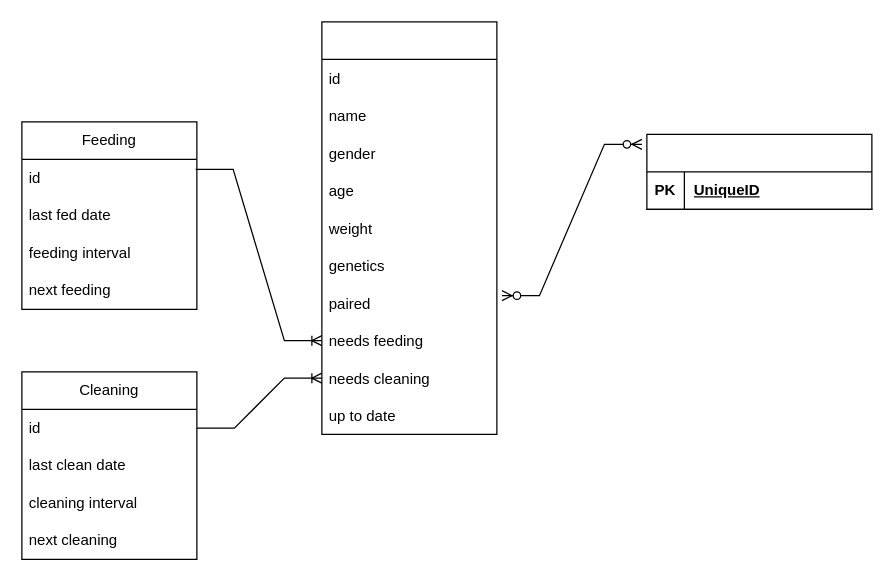
The diagram is 894 pixels wide and 581 high, and some of its shapes have lost their labels. The shapes that lost their labels are listed below. From the top down, each one's box as (x1, y1, x2, y2) in pixels, then its label:
(646, 133, 872, 209): Breeding Pairs
(321, 21, 497, 434): Snake
